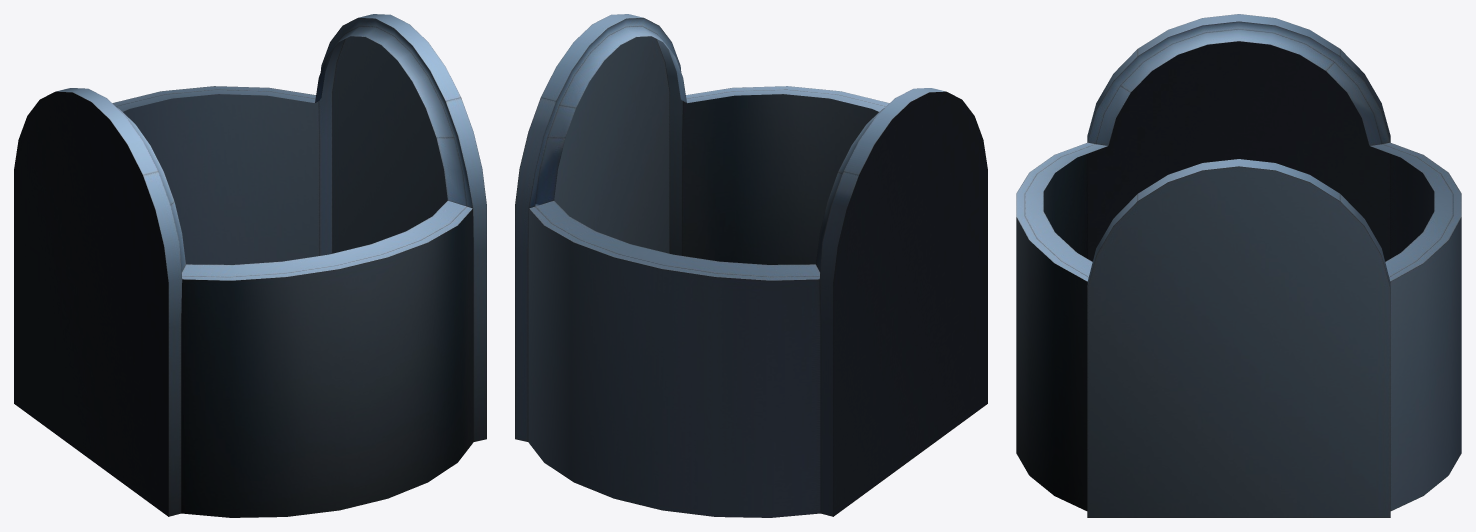
Rendered from board.obj.
3 views of the same model, side by side, from view 1: azimuth 30°, elevation 25°; view 2: azimuth 150°, elevation 25°; view 3: azimuth 270°, elevation 25° (orthographic).
Visible parts, largest first — view 1: HoverBlaster; view 2: HoverBlaster; view 3: HoverBlaster.
Part boxes in pixels (bbox=[...]): HoverBlaster: bbox=[14, 14, 486, 517]; HoverBlaster: bbox=[515, 14, 987, 517]; HoverBlaster: bbox=[1016, 14, 1461, 517].
Size of the model in its own units: 199 by 214 by 246.
Materials: 1 (1 with a texture image).
